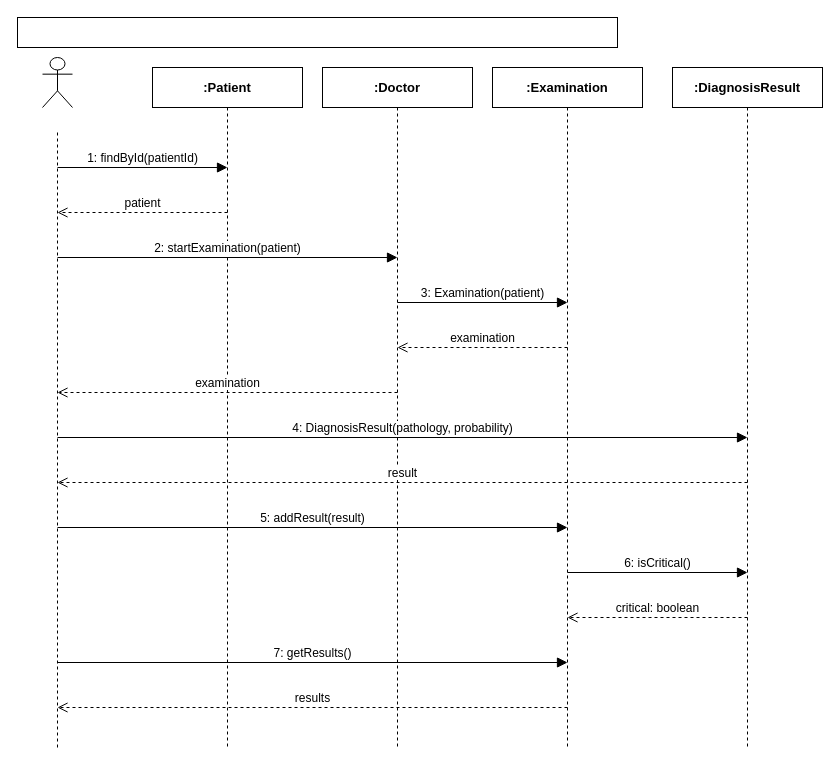
The diagram is 840 pixels wide and 766 high, and some of its shapes have lost their labels. The box of each missing label's shape, as (x1, y1, x2, y2) in pixels:
Sequence: Диагностика нәтижесін енгізу: (16, 16, 618, 48)
Дәрігер: (42, 56, 72, 108)
